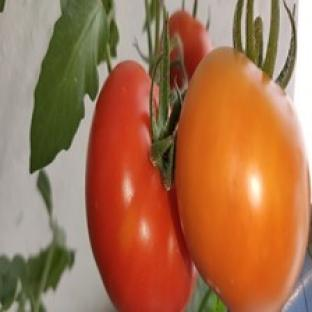Tomato: (176, 48, 309, 311), (87, 62, 194, 311), (169, 10, 211, 80)
